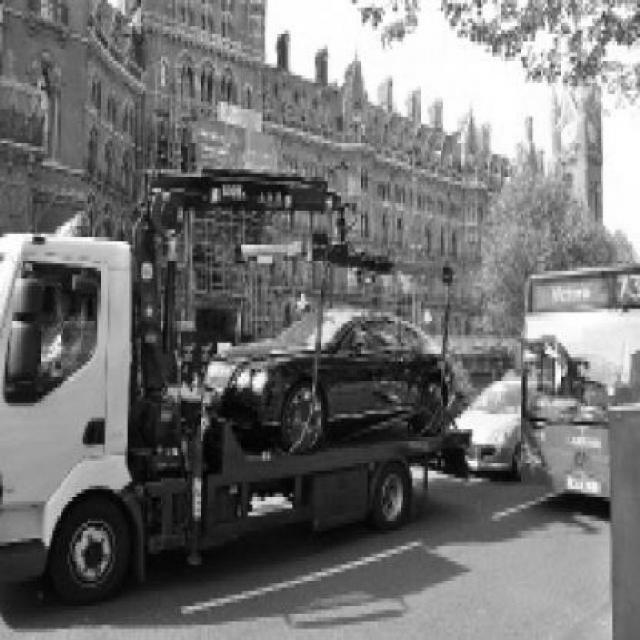Sedan: (200, 307, 466, 454)
Tow Truck: (0, 234, 474, 605)
